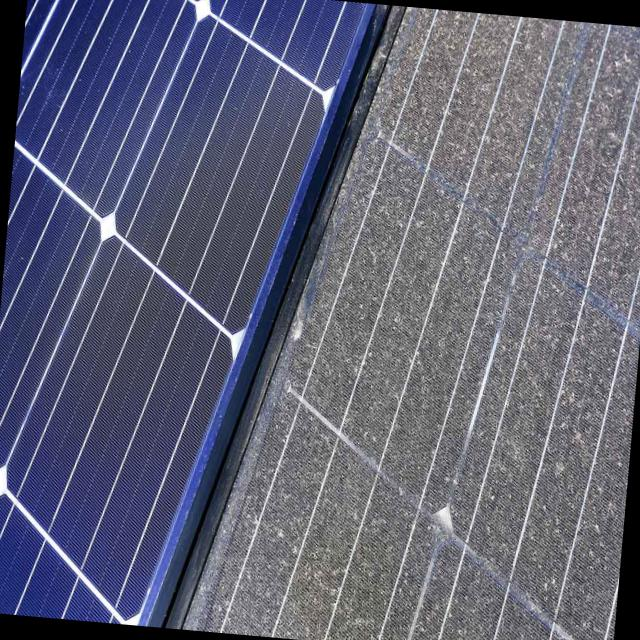faulty: (178, 7, 640, 640)
no faulty: (0, 0, 359, 625)
